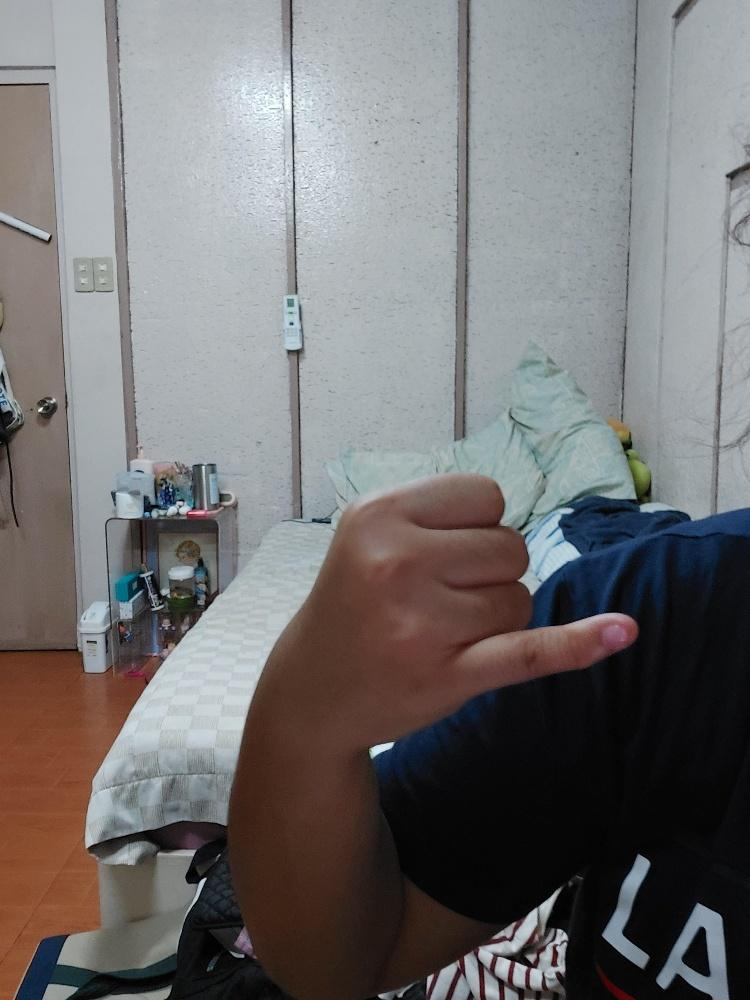j: (264, 472, 640, 754)
